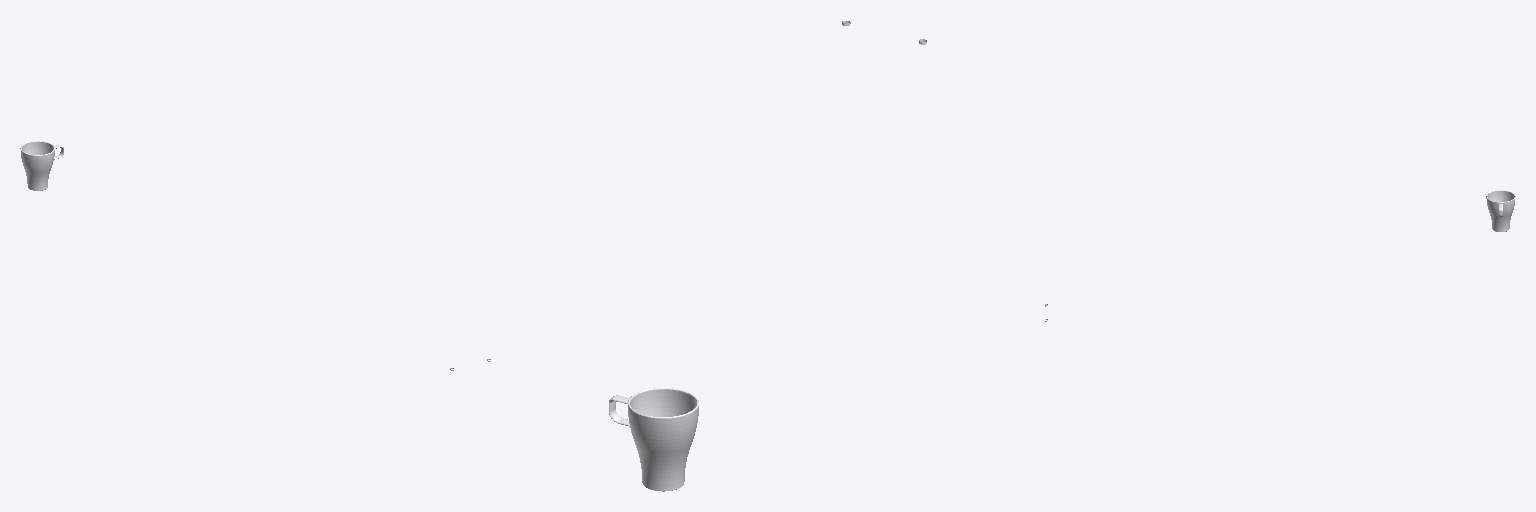
URDF robot description (coffee_mug):
<robot
  name="coffee_mug">
  <link
    name="coffee_mug">
    <inertial>
      <origin
        xyz="0.003306 -6.0140999999649E-07 0.057329"
        rpy="0 0 0" />
      <mass
        value="0.071599" />
      <inertia
        ixx="0.00010544771630731"
        ixy="1.00462092658696E-09"
        ixz="5.79712159913061E-06"
        iyy="0.000118907118350674"
        iyz="7.68416810268359E-10"
        izz="8.93148066821064E-05" />
    </inertial>
    <visual>
      <origin
        xyz="0 0 0"
        rpy="0 0 0" />
      <geometry>
        <mesh
          filename="package://coffee_mug/meshes/coffee_mug.dae" />
      </geometry>
      <material
        name="">
        <color
          rgba="0.98431 0.98431 1 1" />
      </material>
    </visual>
    <collision>
      <origin
        xyz="0 0 0"
        rpy="0 0 0" />
      <geometry>
        <mesh
          filename="package://coffee_mug/meshes/coffee_mug.dae" />
      </geometry>
    </collision>
  </link>
</robot>

--- What the picture shows (computed from the rendered views, not written in the file) ---
The picture shows the robot from 3 angles, left to right: view 1: azimuth 30°, elevation 25°; view 2: azimuth 150°, elevation 25°; view 3: azimuth 270°, elevation 25°; orthographic projection.
Robot: coffee_mug — 1 links, 0 joints (none); root link coffee_mug; default pose: all joints at 0.
Links seen in each view (by area): view 1: coffee_mug; view 2: coffee_mug; view 3: coffee_mug.
Link boxes in pixels (x1=…): coffee_mug: x1=20, y1=141, x2=490, y2=370; coffee_mug: x1=609, y1=21, x2=926, y2=491; coffee_mug: x1=1045, y1=190, x2=1515, y2=321.
Size in the robot's own frame: 0.5631 by 1.37 by 0.1618 metres.
Meshes: 1 distinct files referenced, 1 mesh visuals loaded (1 Collada DAE).
